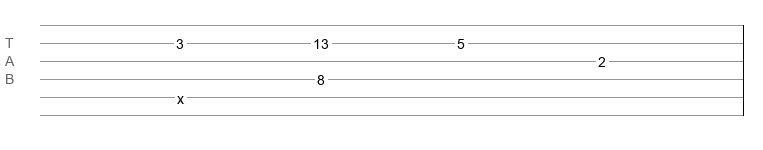13: (313, 36, 329, 46)
2: (598, 54, 606, 64)
3: (176, 36, 184, 46)
5: (457, 36, 465, 46)
8: (317, 72, 325, 82)
x: (177, 91, 184, 99)
